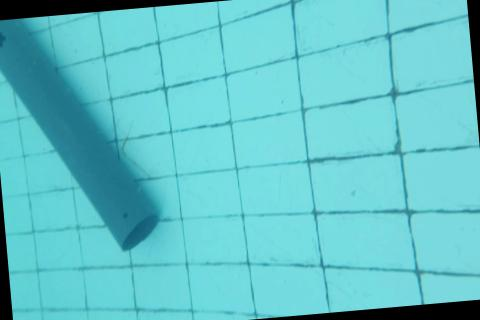kebocoran: (0, 30, 7, 49), (122, 212, 128, 218)
